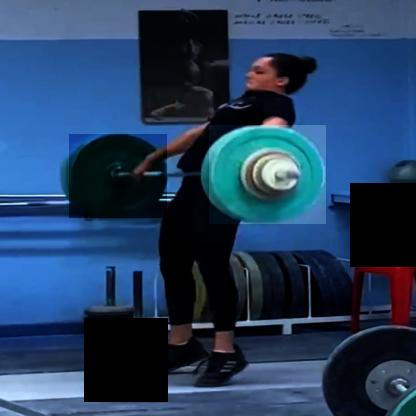barbell: (210, 126, 327, 225), (70, 135, 168, 219)
